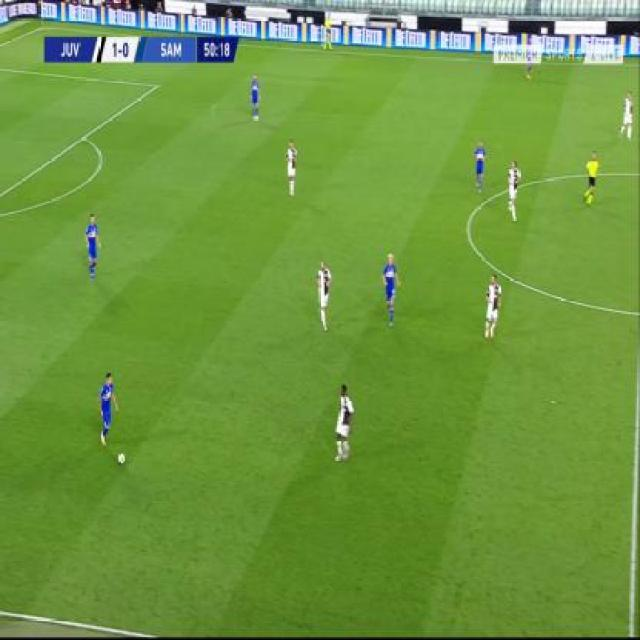ball: (118, 449, 126, 465)
player: (333, 379, 355, 464), (96, 368, 118, 447), (380, 249, 400, 328), (83, 209, 102, 282), (482, 271, 501, 342), (316, 256, 333, 333), (505, 156, 521, 224), (583, 148, 600, 208), (619, 88, 636, 144), (284, 137, 298, 199), (473, 138, 487, 194), (248, 72, 261, 121), (322, 11, 333, 53)
